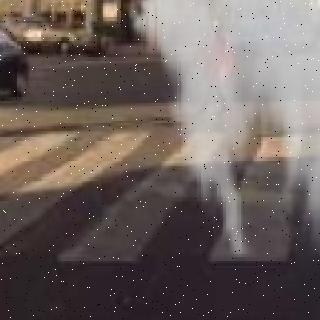smoke: (111, 0, 320, 235)
